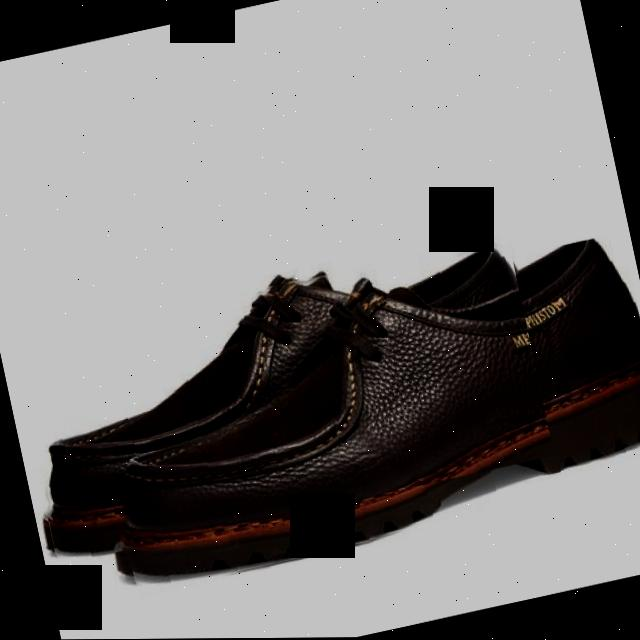shoe: (75, 232, 640, 598), (3, 230, 554, 566)
